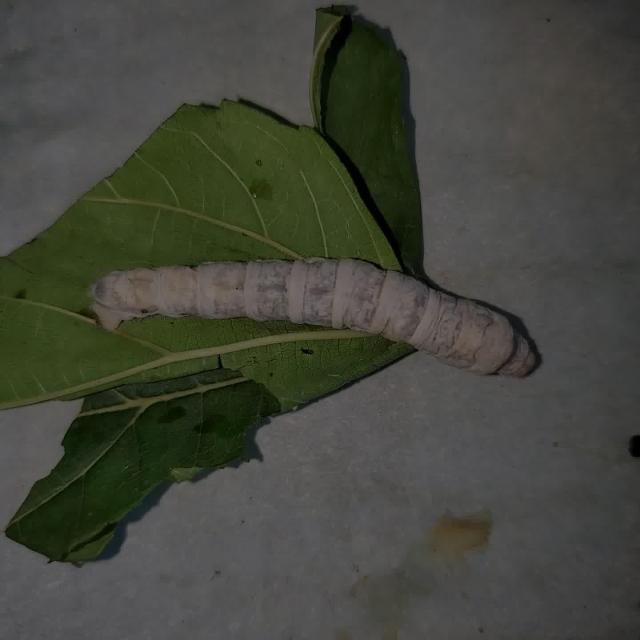Grasserie: (67, 206, 575, 477)
